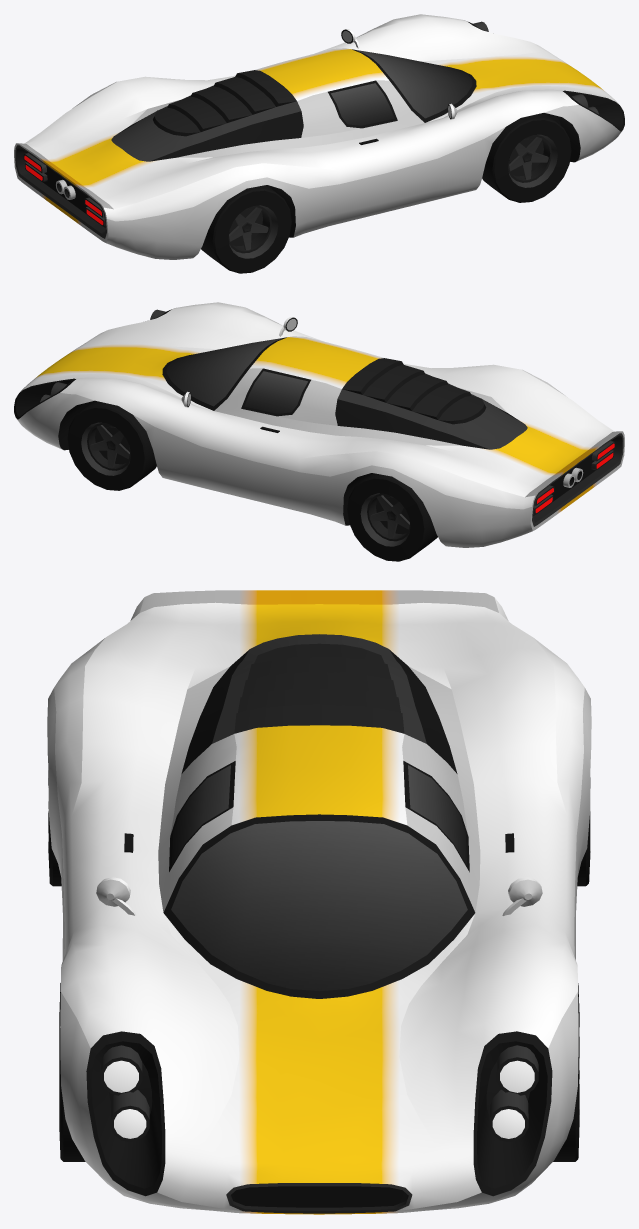
Rendered from RaceCar_052.glb.
3 renders of one model, top to bottom at view 1: azimuth 30°, elevation 25°; view 2: azimuth 150°, elevation 25°; view 3: azimuth 270°, elevation 25°, orthographic. The views are drawn at different scales.
Parts seen in each view (by area): view 1: RaceCar_052, wheel_1_RaceCar_052_Wheel_1R, wheel_3_RaceCar_052_Wheel_2R; view 2: RaceCar_052, wheel_0_RaceCar_052_Wheel_1L, wheel_2_RaceCar_052_Wheel_2L; view 3: RaceCar_052, wheel_0_RaceCar_052_Wheel_1L, wheel_1_RaceCar_052_Wheel_1R.
Part boxes in pixels (x1,y1,x2,y2): RaceCar_052: (14, 14, 624, 259); wheel_1_RaceCar_052_Wheel_1R: (482, 113, 571, 202); wheel_3_RaceCar_052_Wheel_2R: (201, 185, 291, 273); RaceCar_052: (14, 302, 624, 547); wheel_0_RaceCar_052_Wheel_1L: (67, 401, 156, 490); wheel_2_RaceCar_052_Wheel_2L: (347, 473, 437, 561); RaceCar_052: (47, 590, 591, 1214); wheel_0_RaceCar_052_Wheel_1L: (553, 983, 579, 1161); wheel_1_RaceCar_052_Wheel_1R: (59, 983, 85, 1161).
Size of the model in its own units: 4.8 by 1.06 by 2.13.
2 materials, 2 textured.
